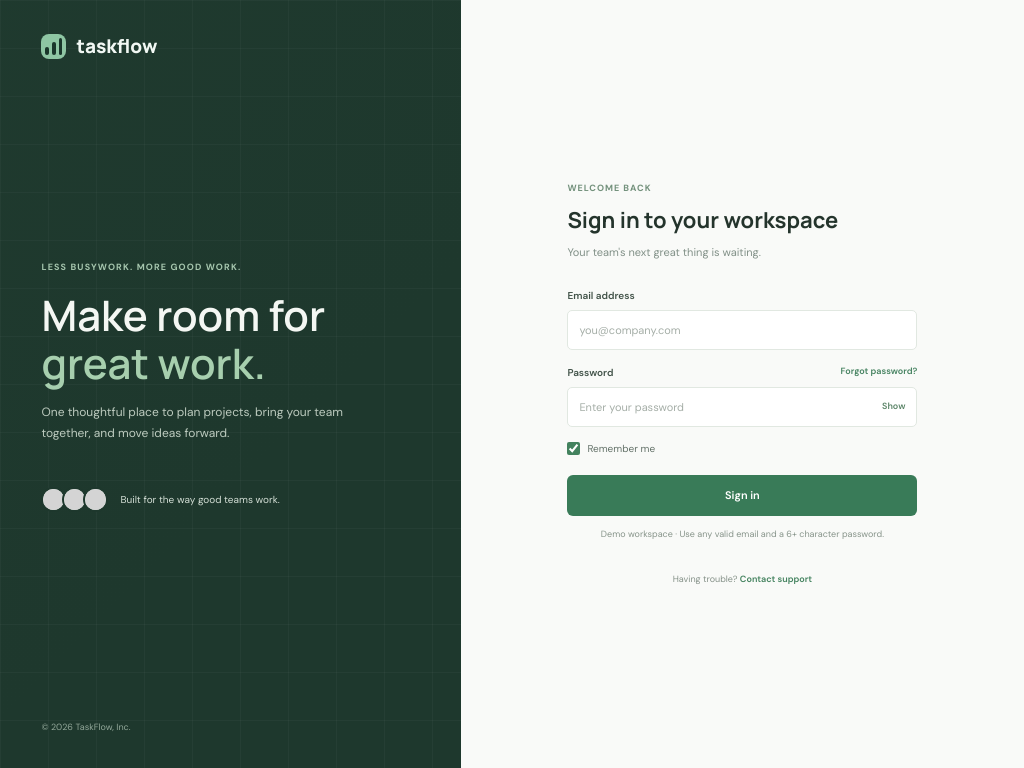
Test: login flow › reports required email and password when submitting empty fields
This screenshot has width=1024, height=768.
Click the button "Sign in".
click(742, 495)  # box [567,474,917,516]
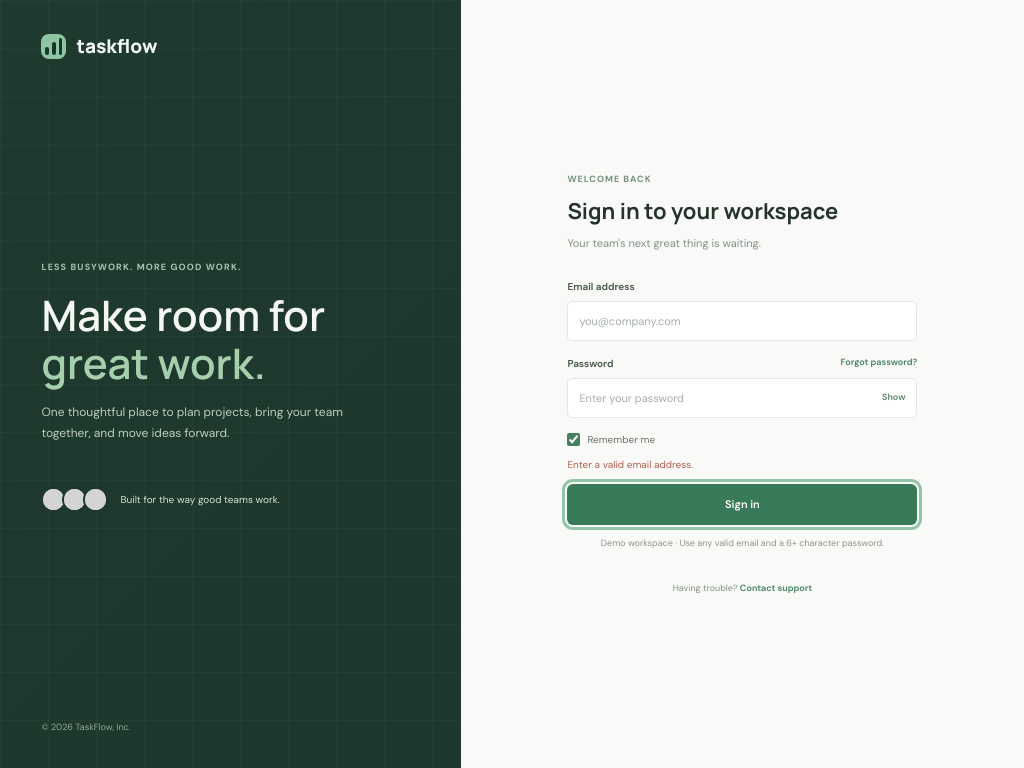
Check: the message reads "Enter a valid email address.", box [567,458,693,470]
Type "alex@example.com" into the field labelled "Email address".
click(742, 320); type("alex@example.com")  # box [567,300,917,340]
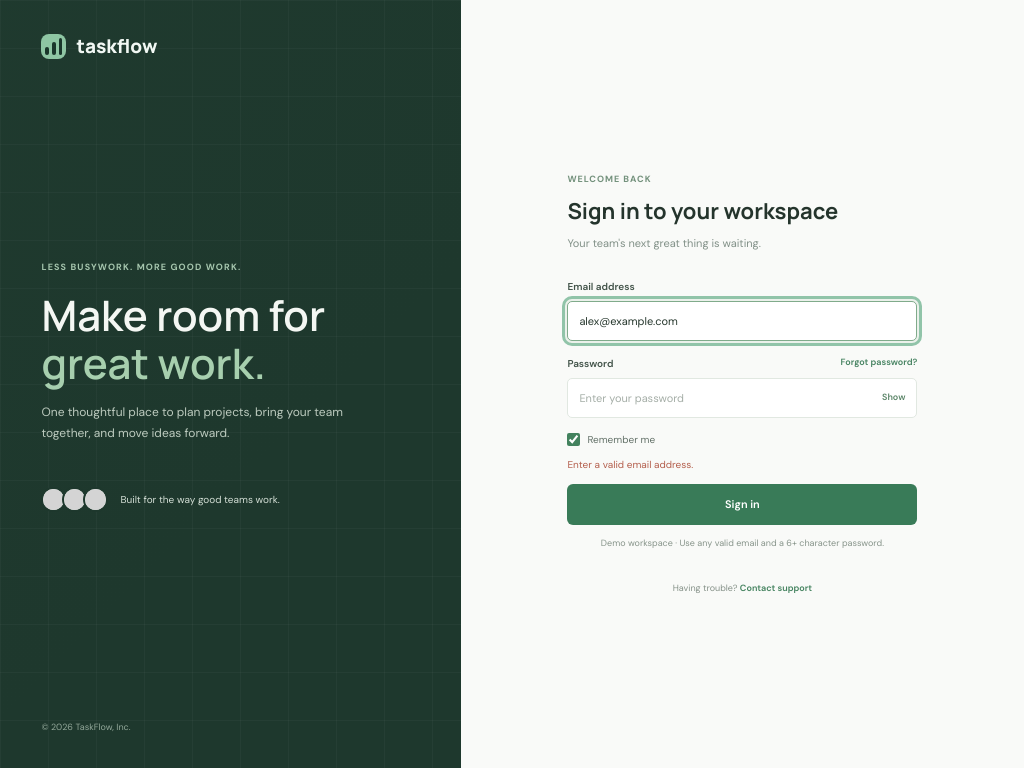
Click the button "Sign in".
click(742, 504)  # box [567,484,917,524]
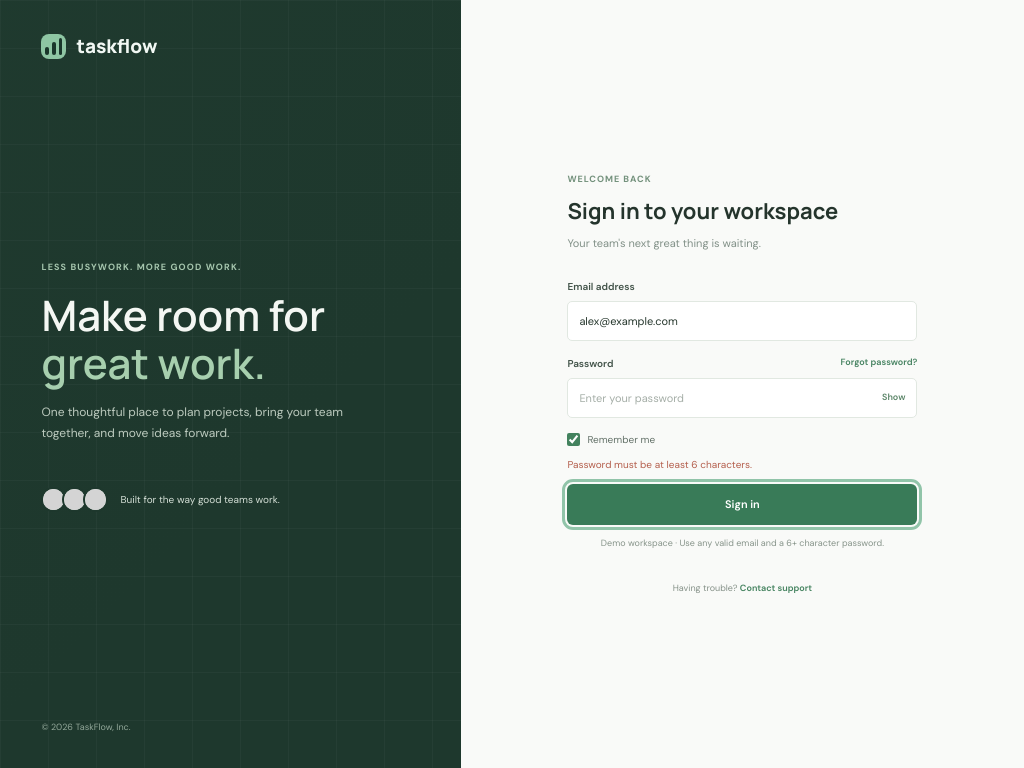
Check: the message reads "Password must be at least 6 characters.", box [567,458,752,470]
